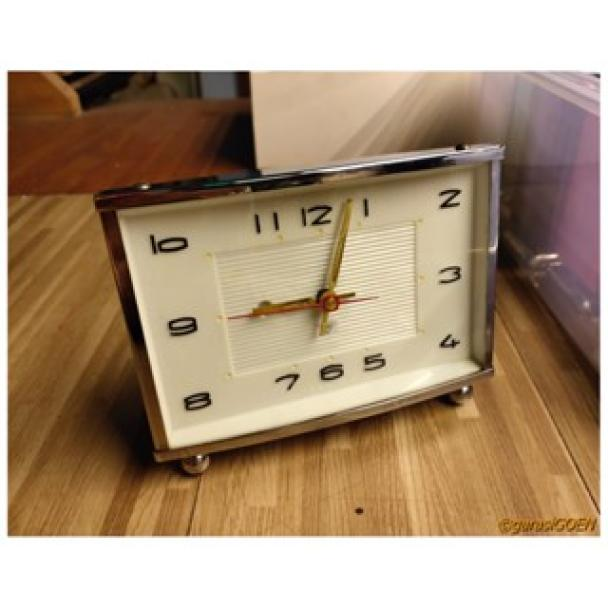Jam: (103, 153, 495, 454)
